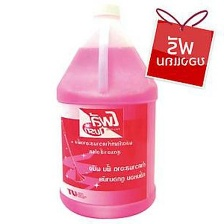cleaning_solution: (54, 1, 159, 221)
